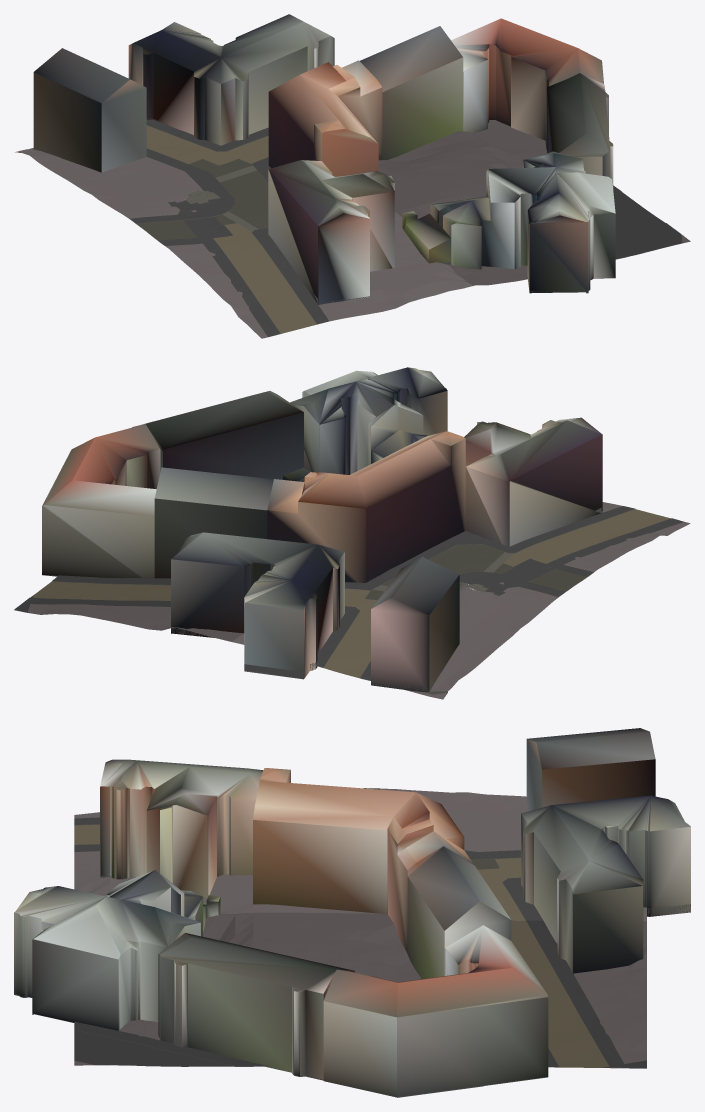
The picture shows the model from 3 angles, top to bottom: view 1: azimuth 30°, elevation 25°; view 2: azimuth 150°, elevation 25°; view 3: azimuth 270°, elevation 25°; orthographic projection. The views are drawn at different scales.
Parts seen in each view (by area): view 1: c_m11_m06, append:c_m11_m06; view 2: c_m11_m06, append:c_m11_m06; view 3: c_m11_m06, append:c_m11_m06.
Part boxes in pixels (x1=…): c_m11_m06: x1=33, y1=14, x2=690, y2=304; append:c_m11_m06: x1=15, y1=120, x2=472, y2=338; c_m11_m06: x1=14, y1=367, x2=602, y2=692; append:c_m11_m06: x1=232, y1=502, x2=690, y2=699; c_m11_m06: x1=14, y1=728, x2=690, y2=1097; append:c_m11_m06: x1=74, y1=788, x2=646, y2=921.
Size of the model in its own units: 143 by 35.49 by 151.
